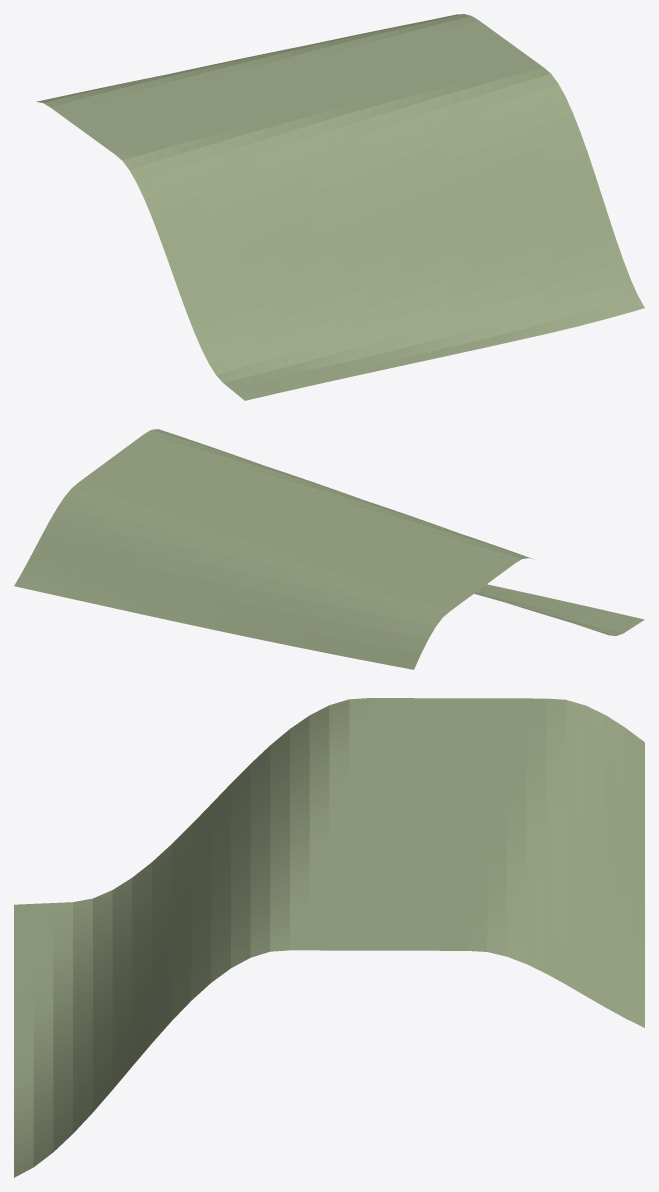
File: alpine-6-11.glb
The picture shows the model from 3 angles, top to bottom: view 1: azimuth 30°, elevation 25°; view 2: azimuth 150°, elevation 25°; view 3: azimuth 270°, elevation 25°; orthographic projection. The views are drawn at different scales.
Visible parts, largest first — view 1: alpine-6-11; view 2: alpine-6-11; view 3: alpine-6-11.
Boxes of the visible parts, bbox=[...] form: alpine-6-11: bbox=[36, 14, 644, 400]; alpine-6-11: bbox=[14, 429, 644, 669]; alpine-6-11: bbox=[14, 698, 644, 1177].
Bounding box in the file's own units: 256 × 103 × 256.
